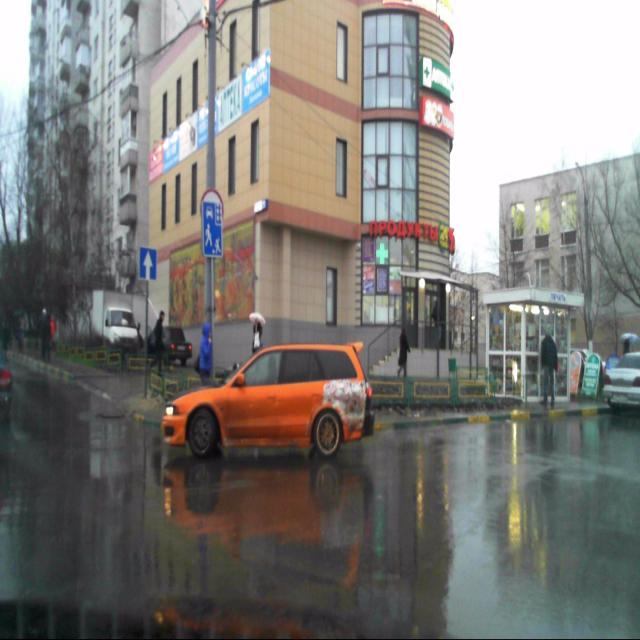road sign: (140, 247, 157, 279)
